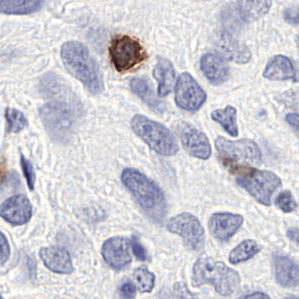Lymphocyte: (108, 35, 147, 73)
